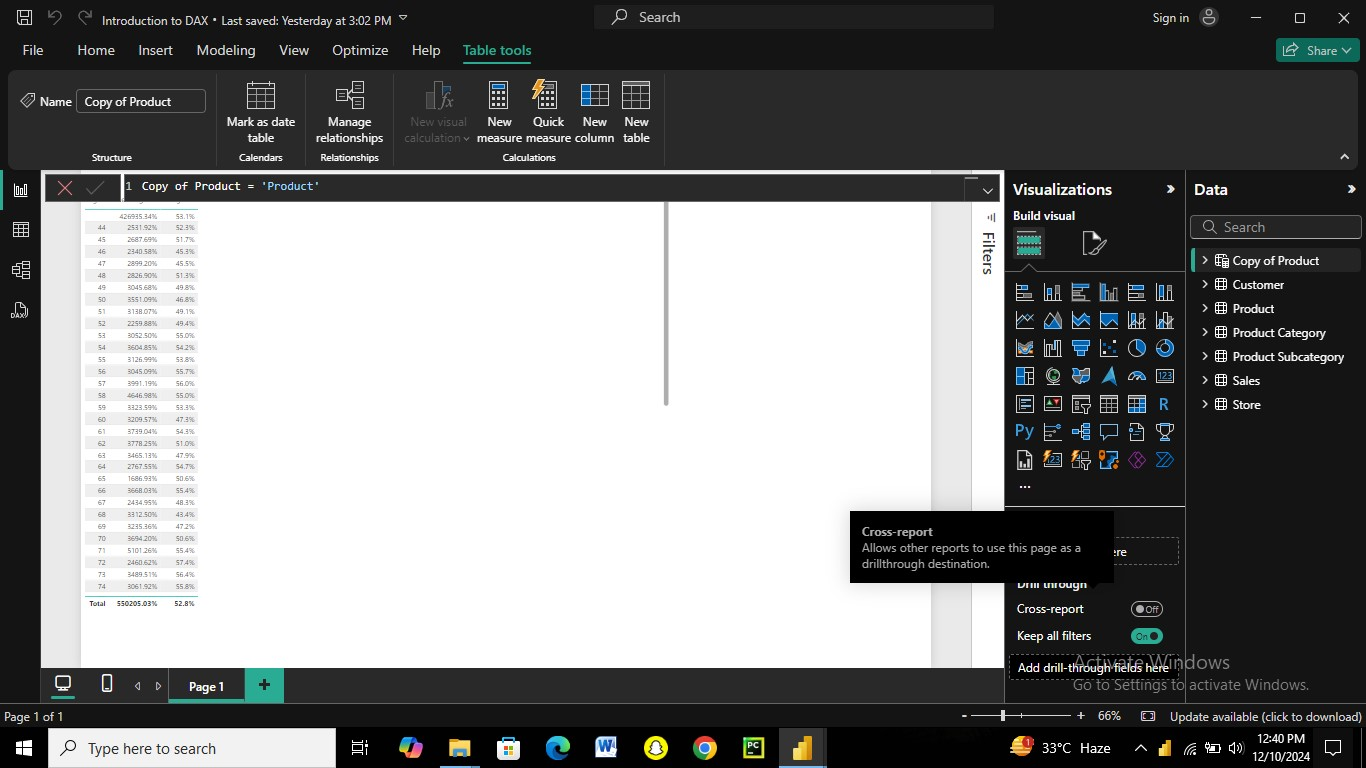

The dashboard page shown, as its layout file describes it:
{"tool":"powerbi","page":{"name":"Page 1","canvas":[1280,720],"ordinal":0},"visuals":[{"type":"tableEx","fields":{"Values":["Customer.Age","Sum(Sales.Line margin %)","Sales.Margin %"]},"box":[0,0,890.9,634.8],"z":0}]}

Visuals, with their boxes on the page's 1280x720 design canvas (x1, y1, x2, y2). These are canvas units, not pixel positions in the 1366x768 screenshot, which may show the page scaled, cropped or inside an application window:
tableEx - Customer.Age x Sum(Sales.Line margin %): <box>0,0,891,635</box>
